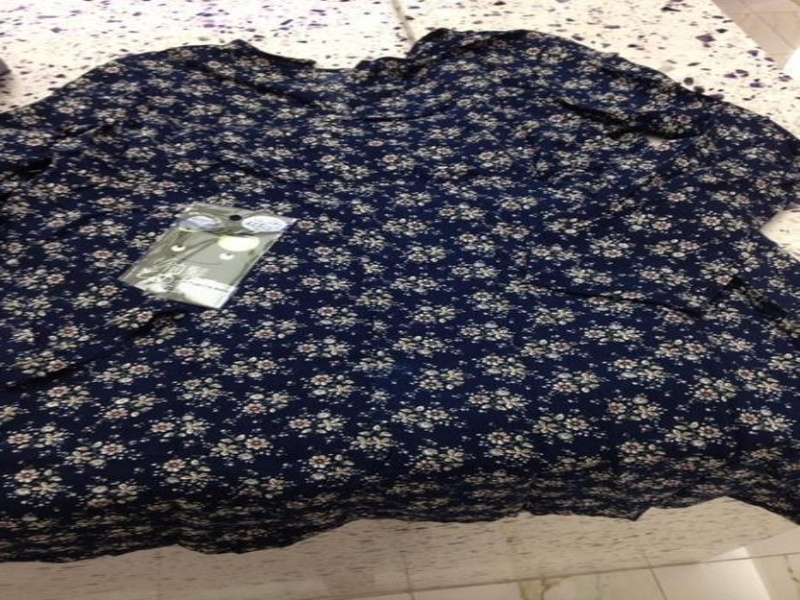long_sleeved_dress: (0, 25, 798, 566)
